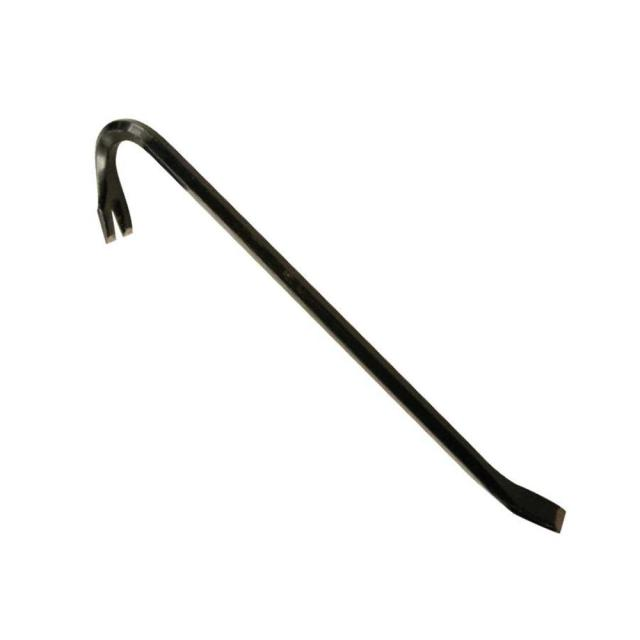Linggis: (95, 119, 566, 534)
